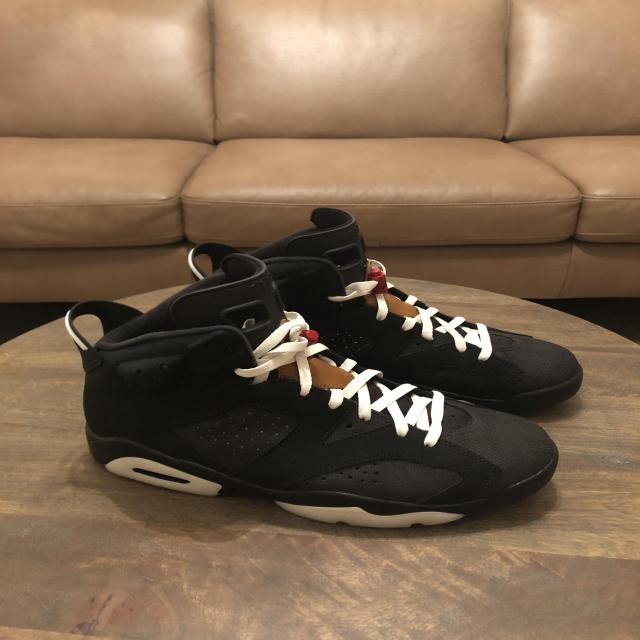shoe: (61, 251, 562, 530), (189, 203, 584, 414)
